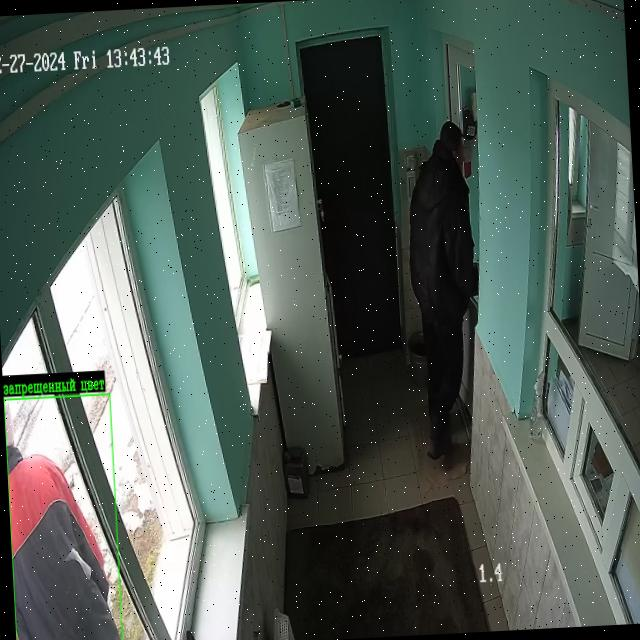Person: (409, 121, 477, 459)
Red uniform: (6, 402, 121, 640)
